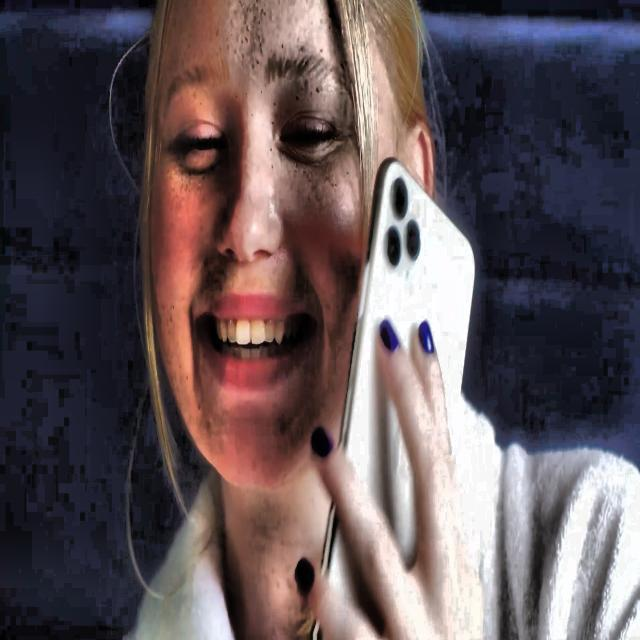Phone: (310, 153, 478, 640)
